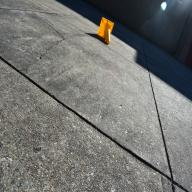cone: (98, 18, 113, 44)
